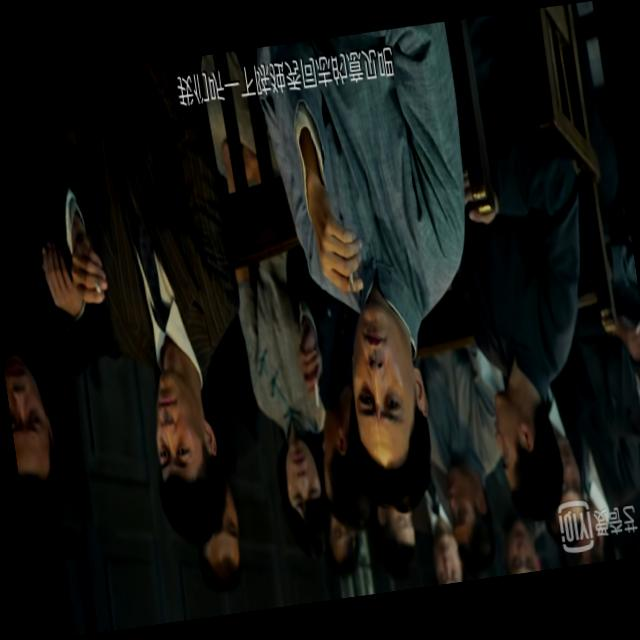smoke: (346, 264, 360, 298), (91, 274, 107, 298)
